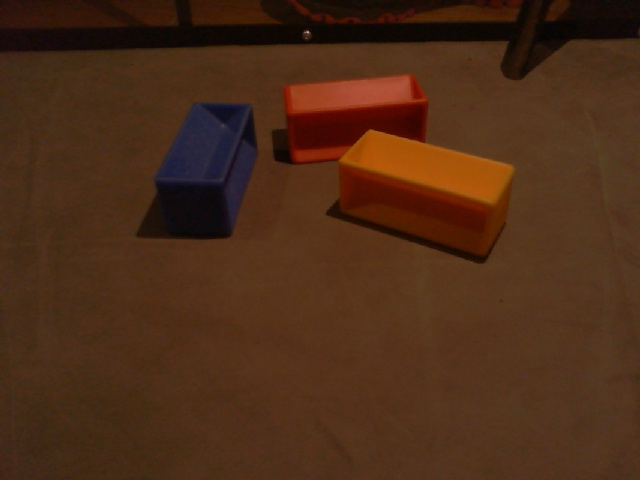BlueSample: (153, 100, 259, 239)
RedSample: (279, 73, 429, 165)
YellowSample: (335, 129, 519, 260)
